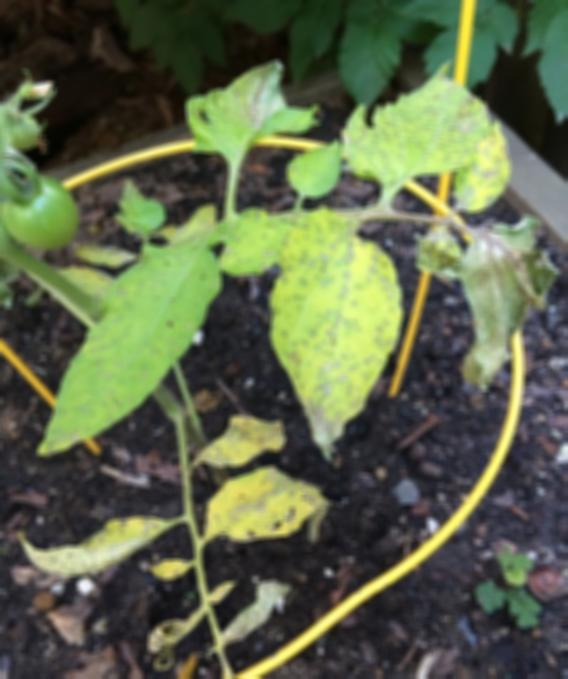Tomato Septoria leaf spot: (40, 209, 221, 459), (275, 192, 398, 470), (334, 58, 503, 193), (182, 43, 331, 178), (188, 474, 338, 555), (223, 197, 297, 278)
